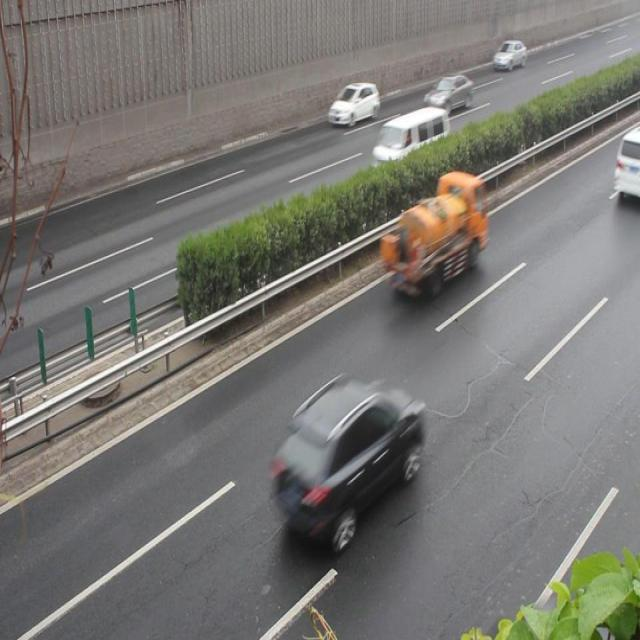car: (269, 374, 417, 546), (327, 81, 377, 126), (421, 71, 470, 113), (492, 38, 523, 71)
